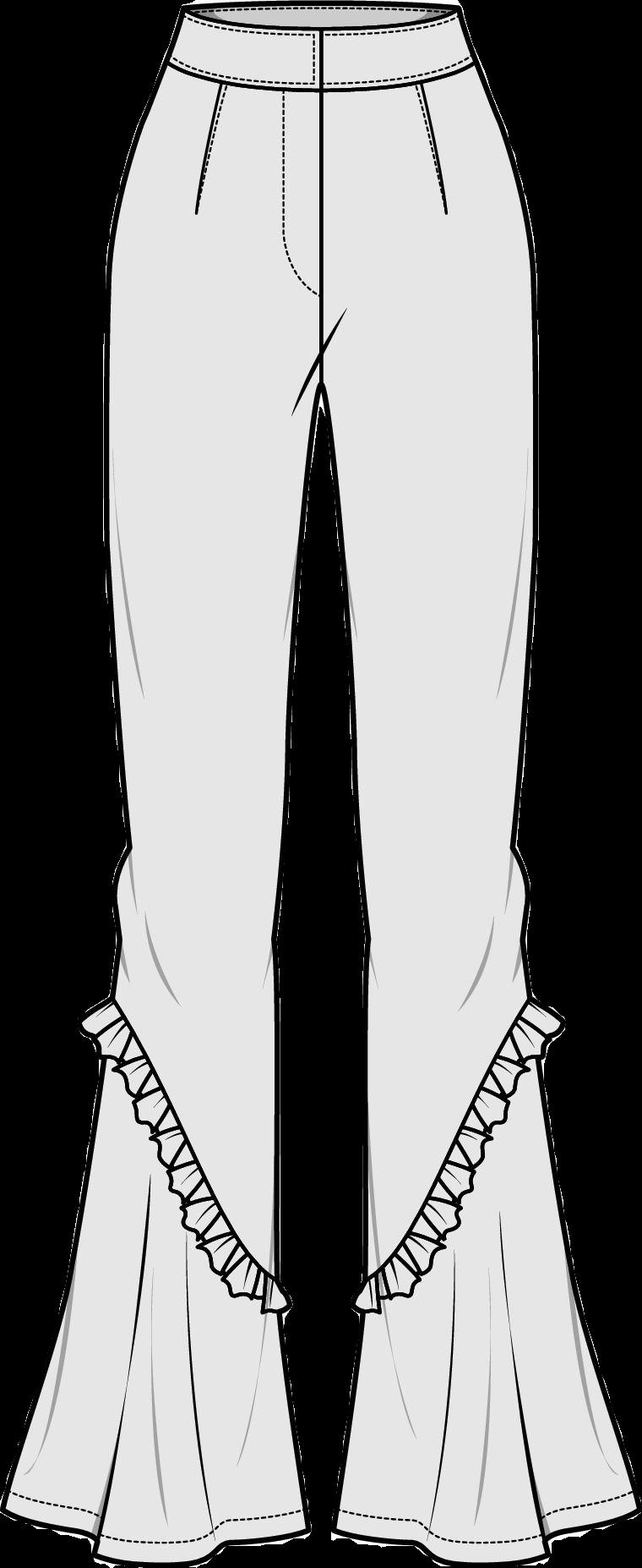Hemline: (327, 1499, 641, 1567), (0, 1499, 311, 1567)
Pantleg: (314, 0, 639, 1565), (0, 0, 318, 1563)
Waistline: (353, 986, 546, 1296), (105, 992, 285, 1291), (157, 47, 486, 101), (178, 0, 467, 39)
